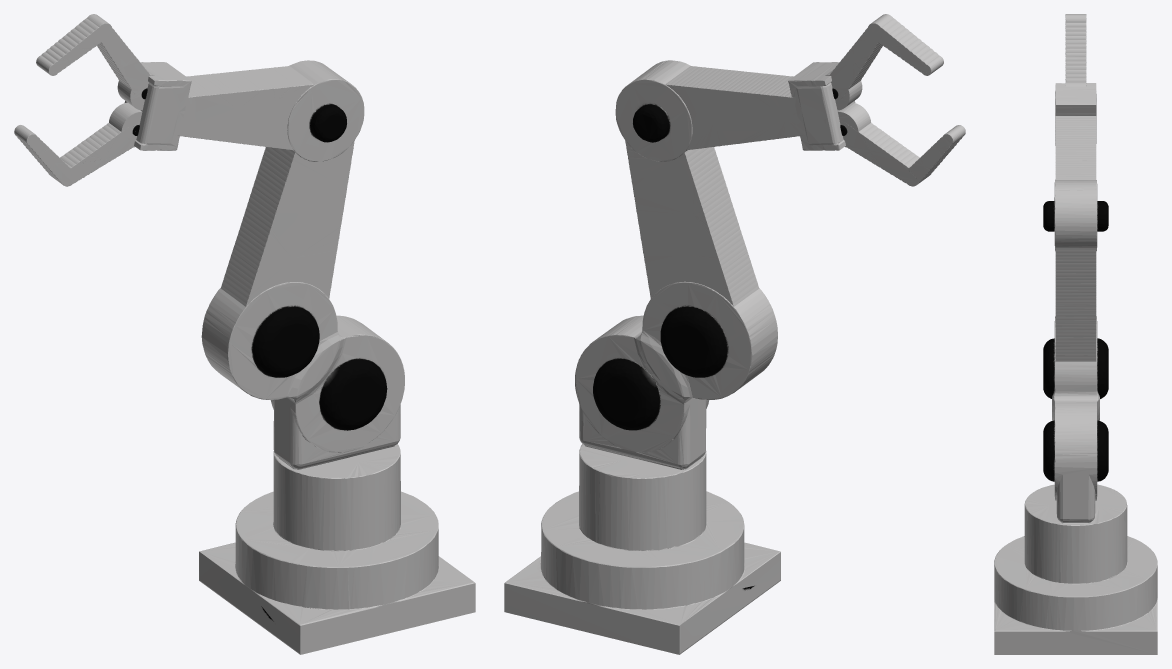
Rendered from roboterarm.glb.
3 views of the same model, side by side, from view 1: azimuth 30°, elevation 25°; view 2: azimuth 150°, elevation 25°; view 3: azimuth 270°, elevation 25° (orthographic). The views are drawn at different scales.
Visible parts, largest first — view 1: 283353_23_05_25_12_27_14_0, 283353_23_05_25_12_27_14_1, 283353_23_05_25_12_27_14_3; view 2: 283353_23_05_25_12_27_14_0, 283353_23_05_25_12_27_14_1, 283353_23_05_25_12_27_14_3; view 3: 283353_23_05_25_12_27_14_0, 283353_23_05_25_12_27_14_1.
Boxes of the visible parts, x1=… form: 283353_23_05_25_12_27_14_0: x1=124, y1=60, x2=475, y2=654; 283353_23_05_25_12_27_14_1: x1=14, y1=14, x2=354, y2=306; 283353_23_05_25_12_27_14_3: x1=109, y1=102, x2=142, y2=147; 283353_23_05_25_12_27_14_0: x1=504, y1=60, x2=855, y2=654; 283353_23_05_25_12_27_14_1: x1=625, y1=14, x2=965, y2=306; 283353_23_05_25_12_27_14_3: x1=838, y1=102, x2=870, y2=147; 283353_23_05_25_12_27_14_0: x1=994, y1=83, x2=1157, y2=654; 283353_23_05_25_12_27_14_1: x1=1055, y1=14, x2=1096, y2=361.
Size of the model in its own units: 7.36 by 11.06 by 3.2.
Materials: 4 (4 with a texture image).
